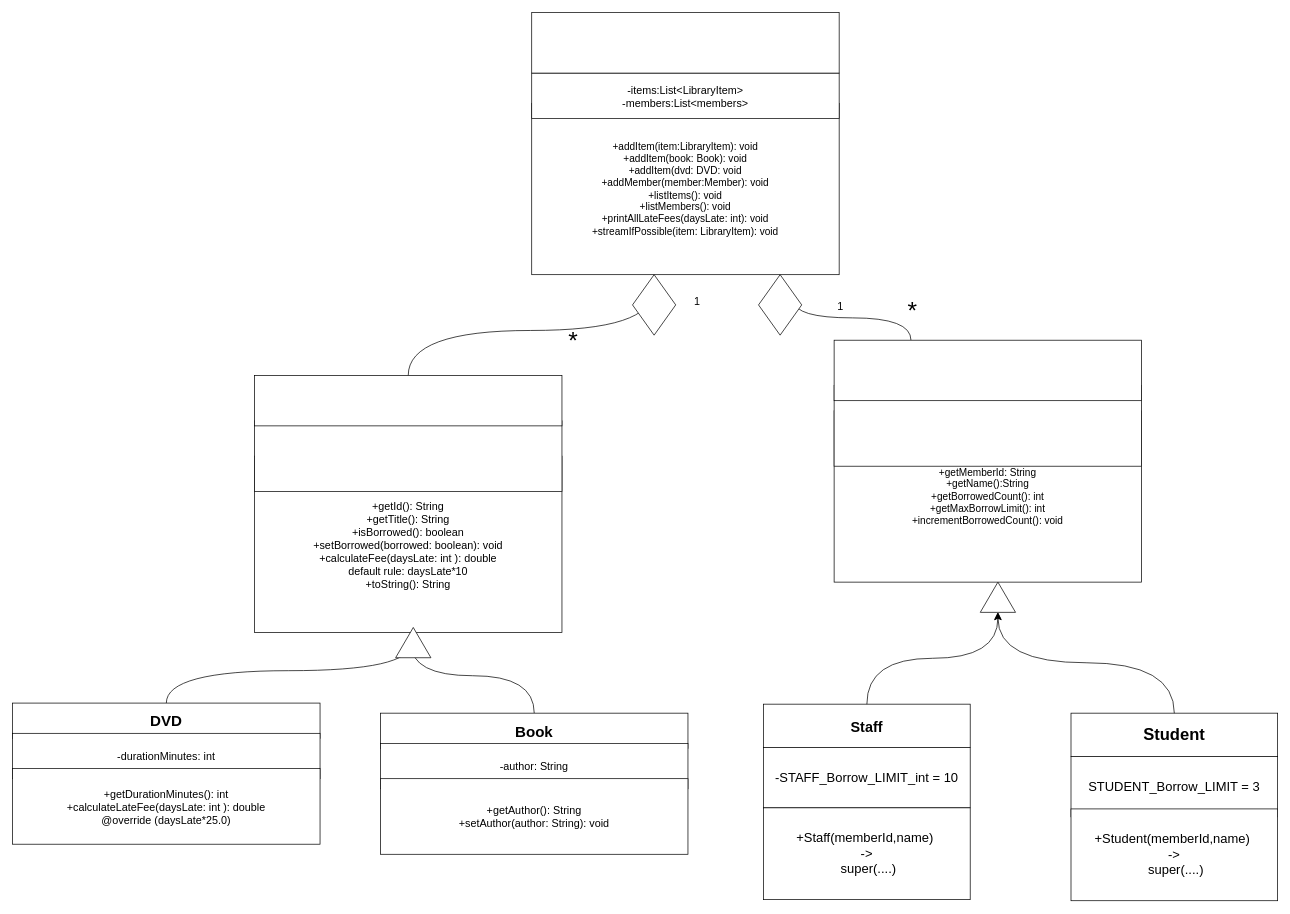
Image size: 1290x914. Some labels were removed from this diagram. Here are the shapes that lost their labels. From the top down, the centre of each, then its label:
At (685,42): "Library".
At (987,370): "Members".
At (408,400): "LibraryItem".
At (987,425): "-memberId:String -name:String -borrowedCount: int -maxBorrowLimit: int".
At (408,455): "-id: String -title: String -isBorrowed: boolean".
